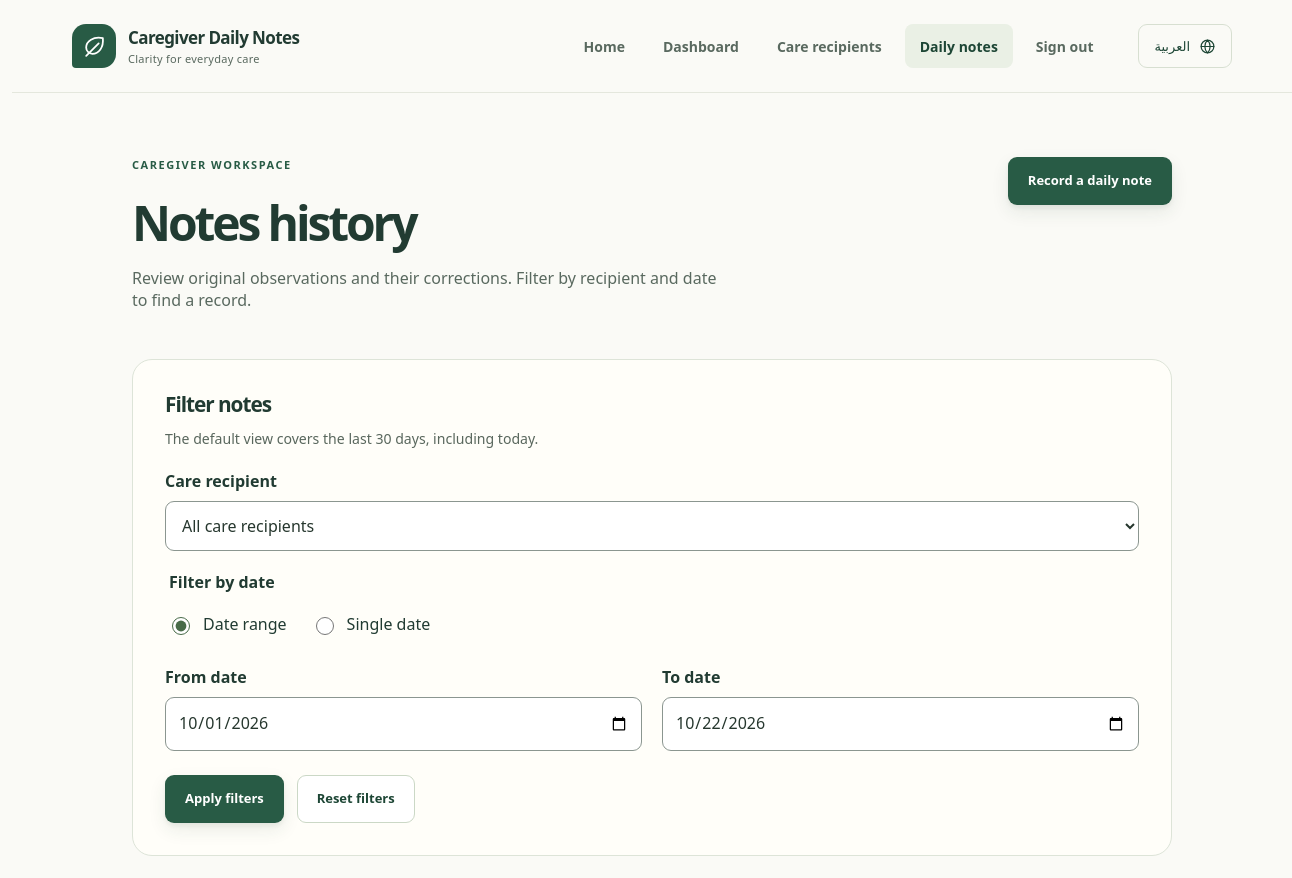
Test: history screen, filters and immutable records › cancels a superseded request and ignores its late response
The image size is (1292, 878).
Select "Samir Hassan" in the dropdown labelled "Care recipient" at (652, 526), box 165,501 -> 1139,551
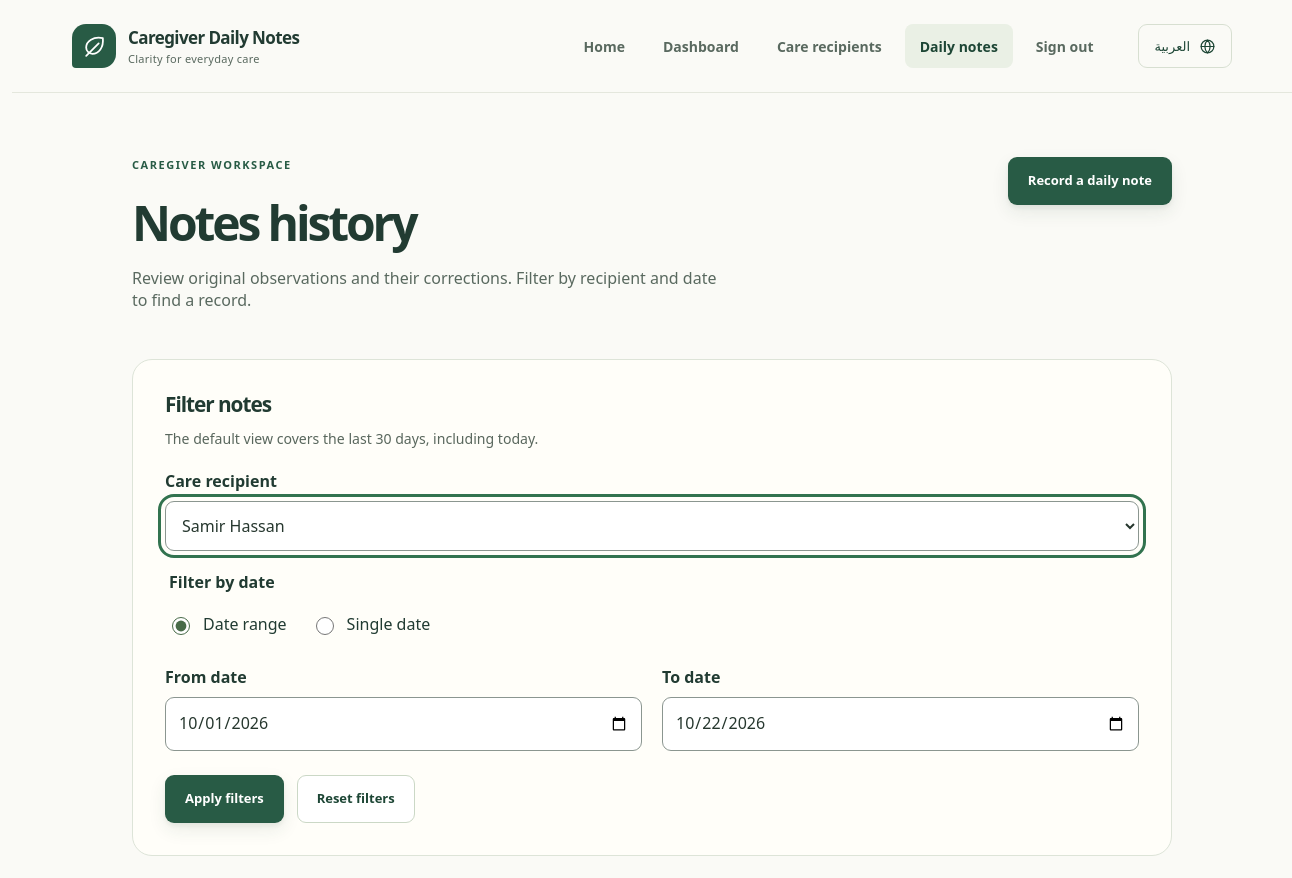
Click the button "Apply filters" at (224, 799), box 165,775 -> 284,823
(page scrolled)
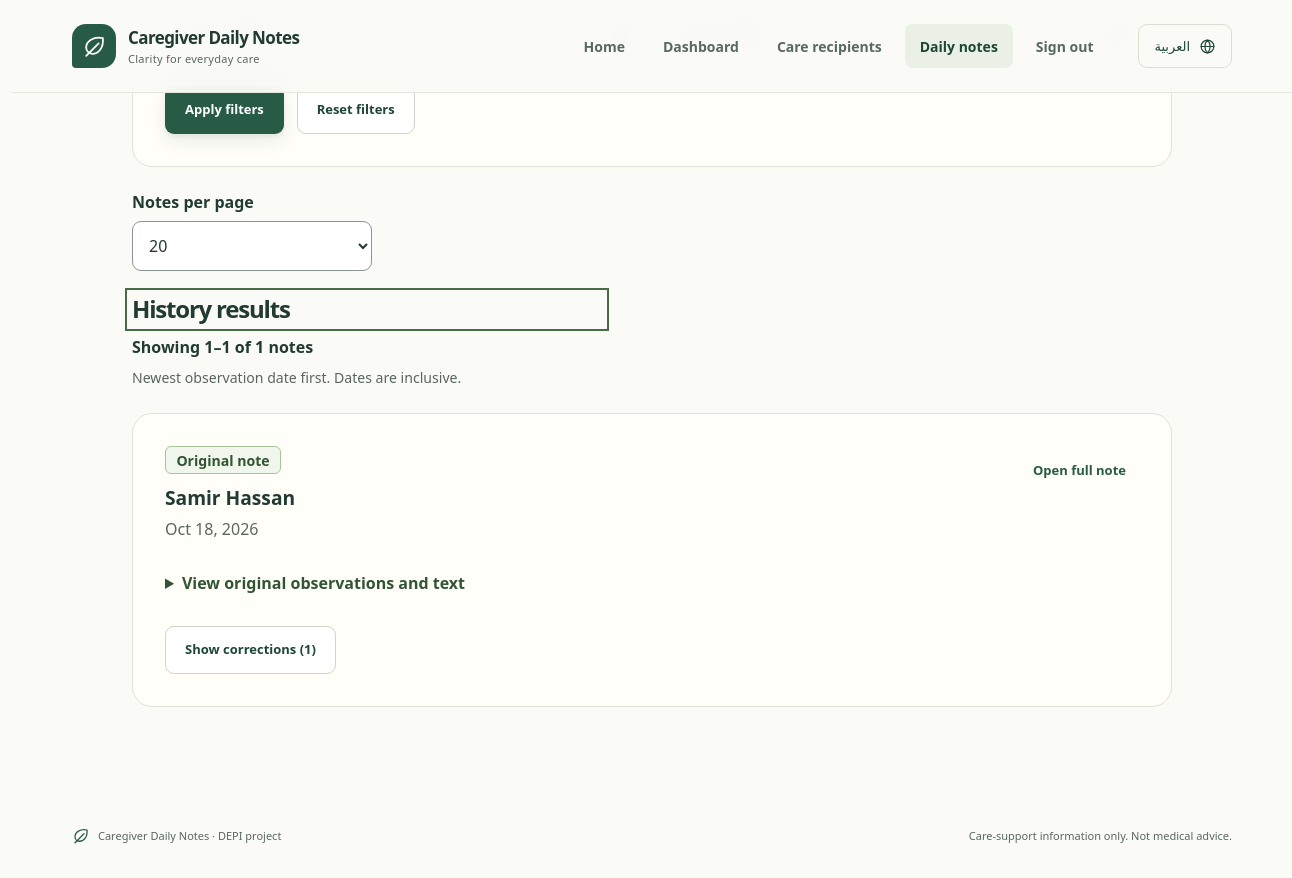
Result: the element "Samir Hassan" is shown at 132,414 -> 1172,707
